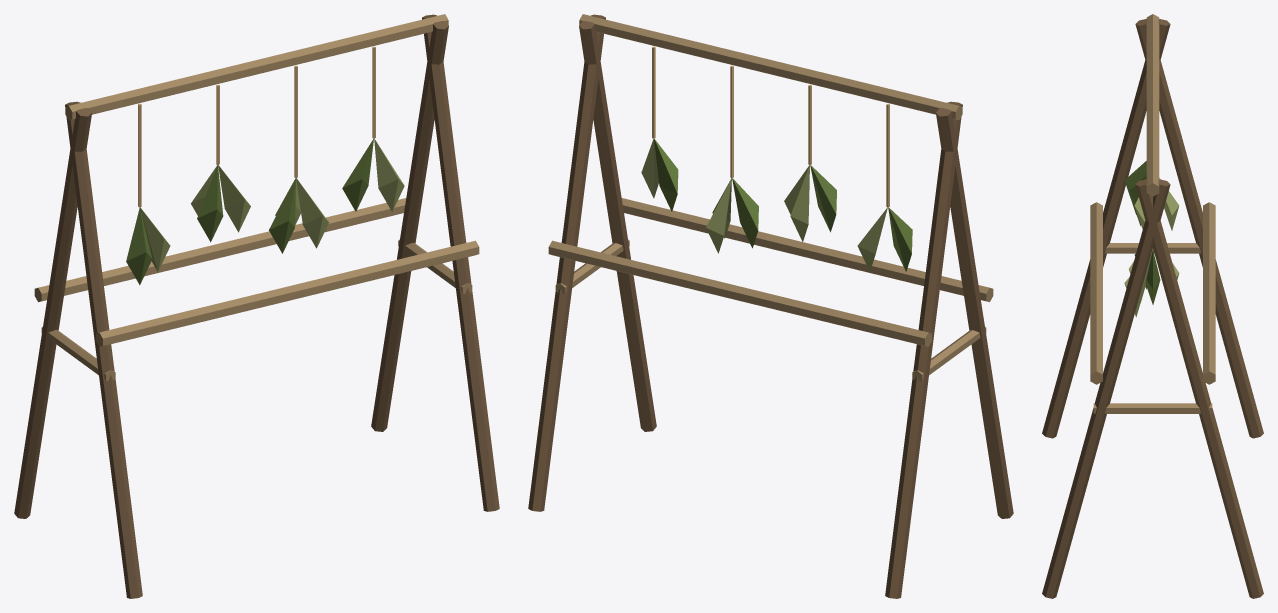
Rendered from TW_CAMP_DRYING_RACK_A_LOD0.glb.
3 renders of one model, left to right at view 1: azimuth 30°, elevation 25°; view 2: azimuth 150°, elevation 25°; view 3: azimuth 270°, elevation 25°, orthographic. The views are drawn at different scales.
Visible parts, largest first — view 1: TW_CAMP_DRYING_RACK_A; view 2: TW_CAMP_DRYING_RACK_A; view 3: TW_CAMP_DRYING_RACK_A.
Part boxes in pixels (left/top/right/bottom): TW_CAMP_DRYING_RACK_A: left=14, top=14, right=499, bottom=598; TW_CAMP_DRYING_RACK_A: left=528, top=14, right=1013, bottom=598; TW_CAMP_DRYING_RACK_A: left=1042, top=14, right=1263, bottom=598.
Size of the model in its own units: 1.35 by 1.56 by 0.7485.
